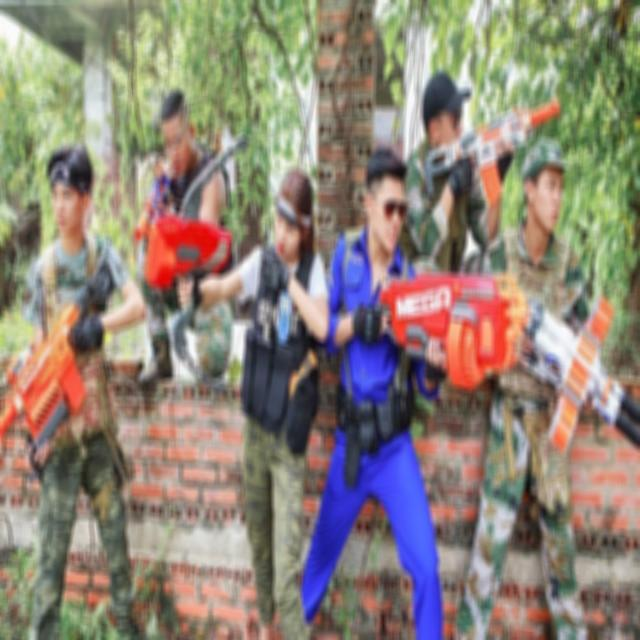Nerf gun: (3, 254, 117, 470), (362, 261, 526, 400), (522, 287, 640, 461), (423, 90, 558, 210), (143, 209, 237, 301), (135, 152, 170, 246)
